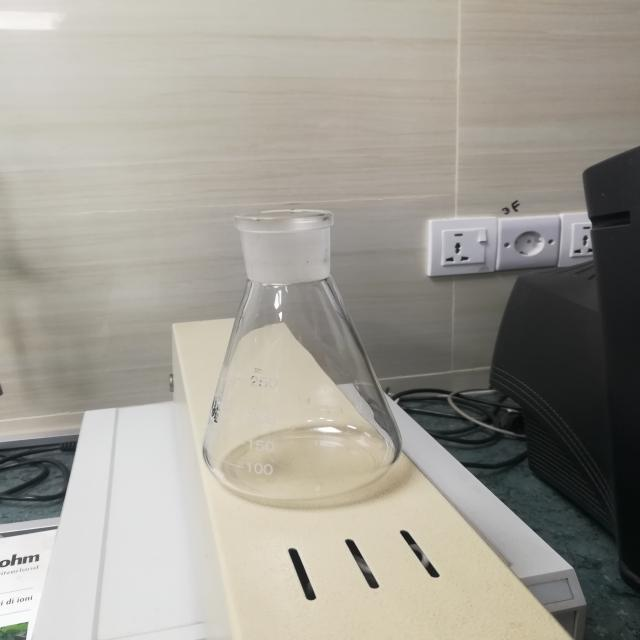Conical_Flask: (168, 186, 432, 511)
